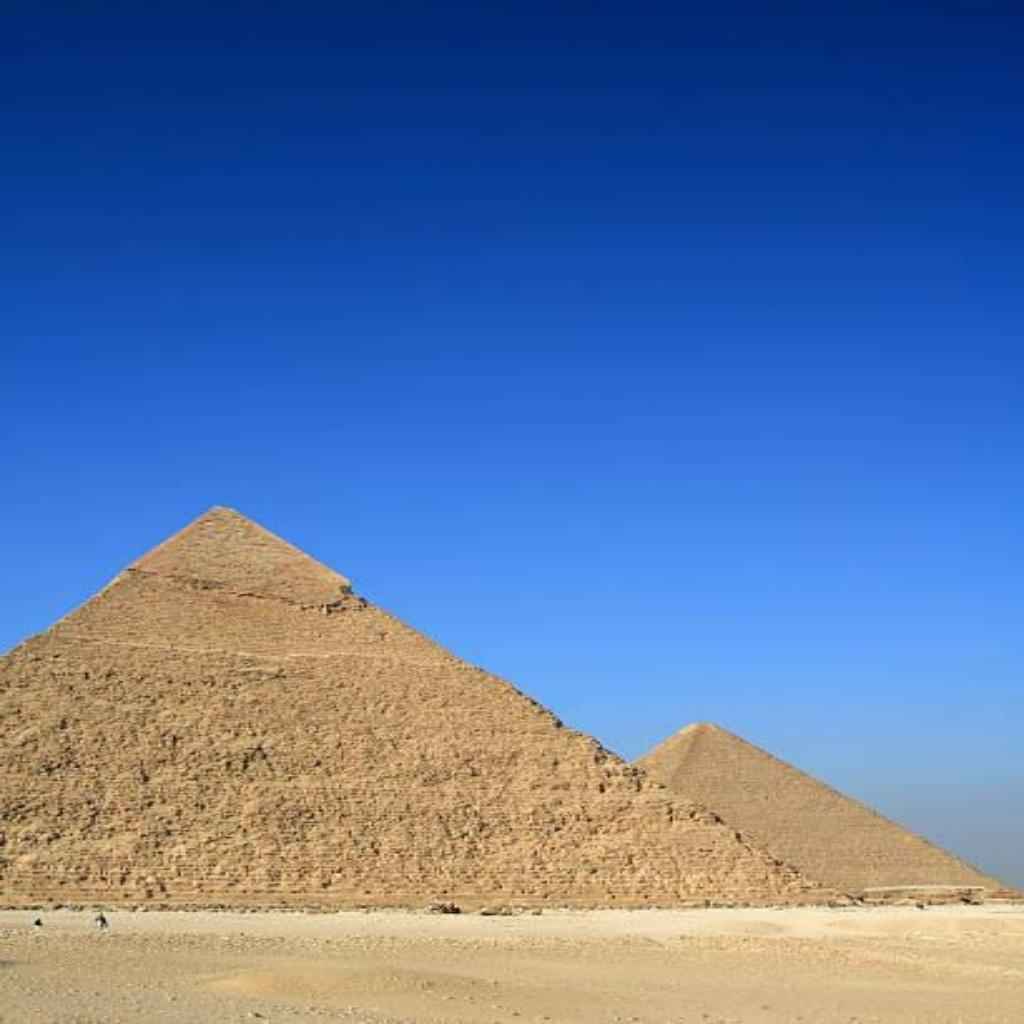Great Pyramids of Giza: (2, 502, 1014, 912)
